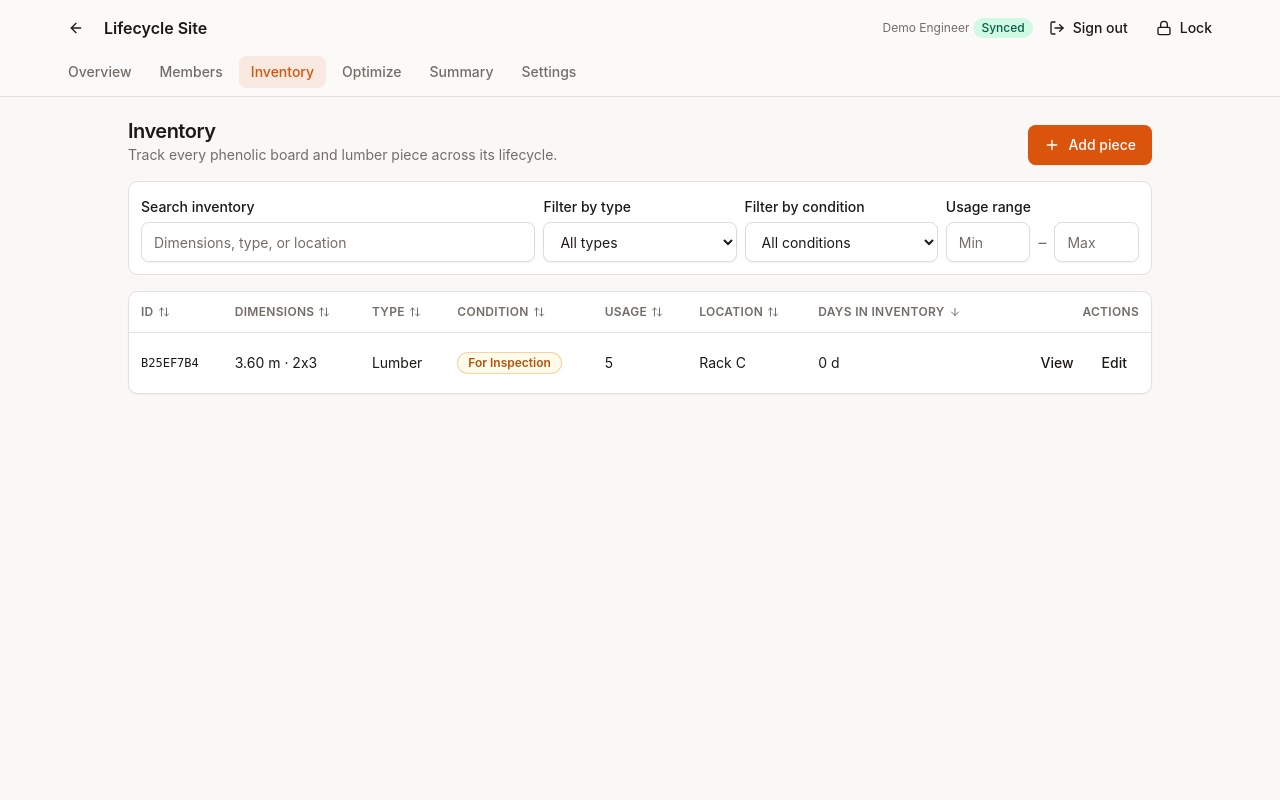
it: ProjectInventoryScreen lifecycle and history › retires a piece so it leaves the active inventory but stays stored
This screenshot has width=1280, height=800.
Expected: the heading "Inventory" is shown, [128, 119, 215, 143]
Click the button with aria-label "view piece": {"x": 1057, "y": 362} [1028, 344, 1086, 380]
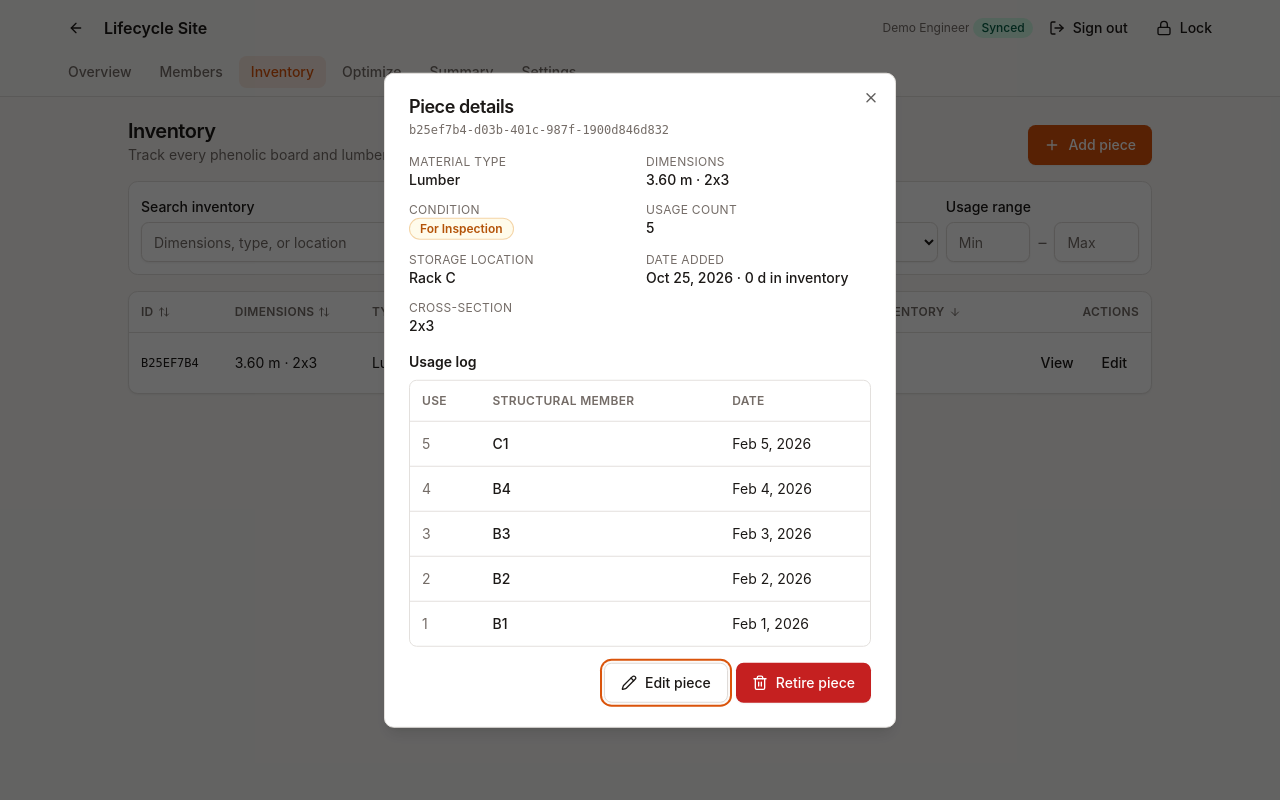
Click the button "Retire piece": {"x": 803, "y": 682} [736, 662, 871, 702]
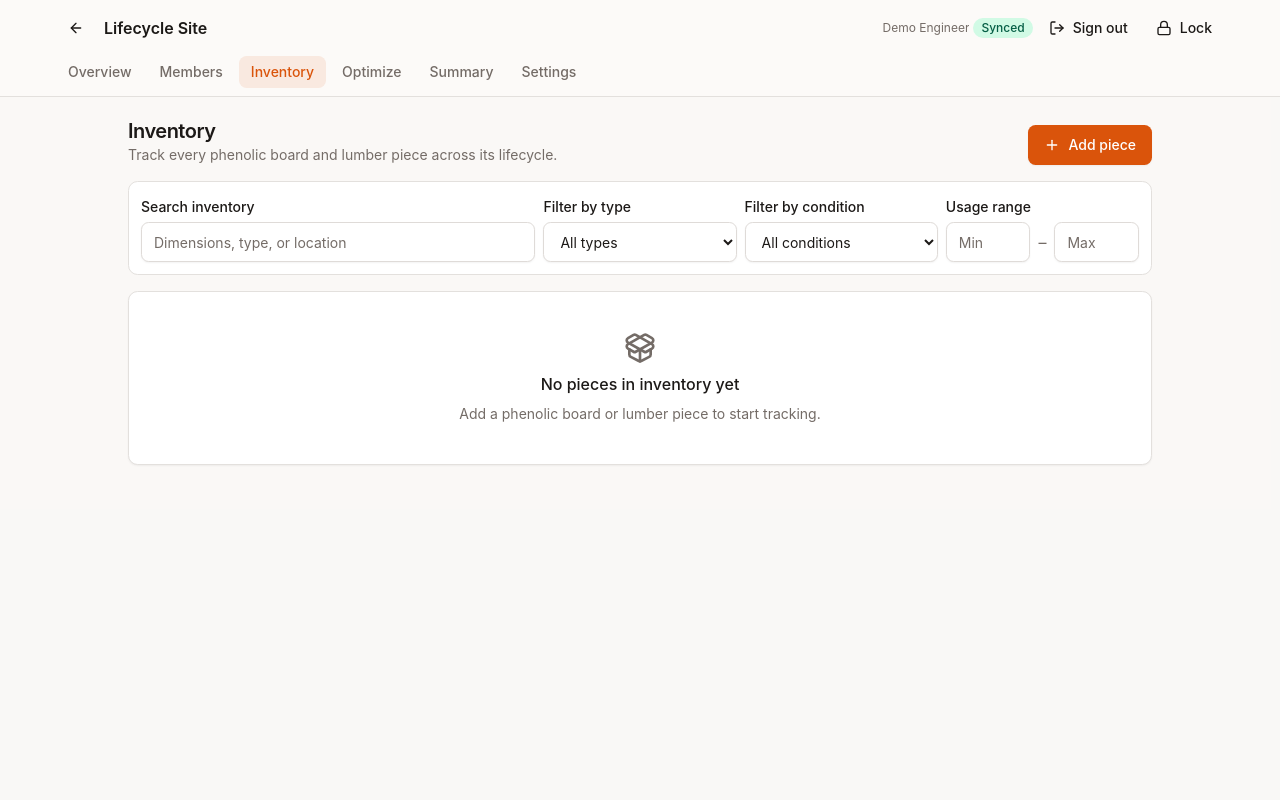
Now the text "No pieces in inventory yet" is shown, box [541, 372, 739, 396]
